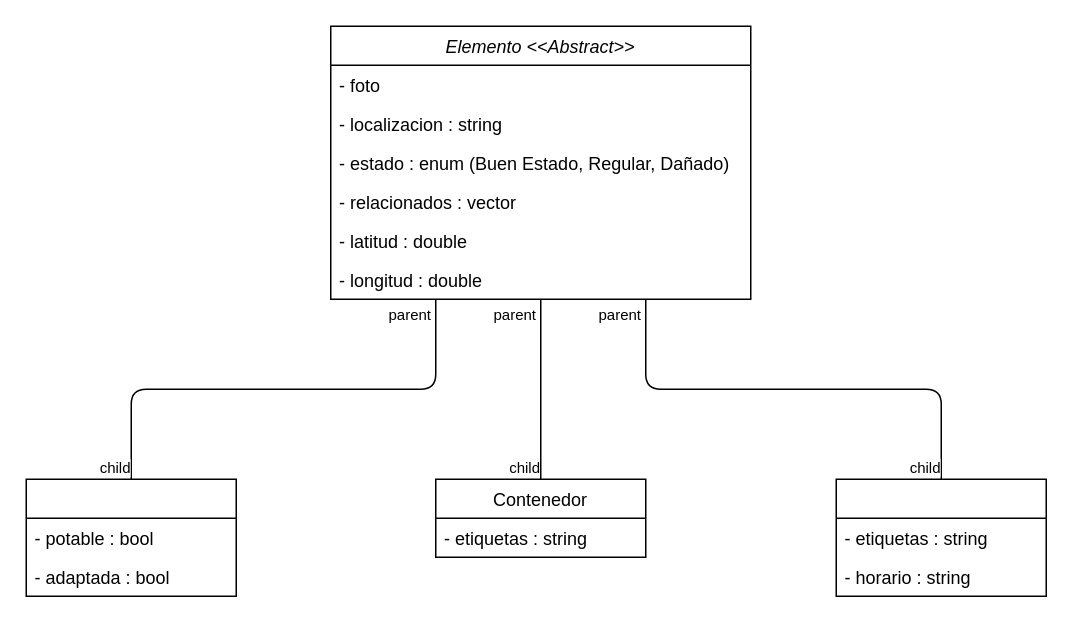
Some shapes in this 1073 by 627 pixel diagram are drawn without their labels. Here are the shapes that lost their labels. From the top down, the box of each, then its label:
(25, 478, 236, 596): Fuente
(835, 478, 1046, 596): Parque
